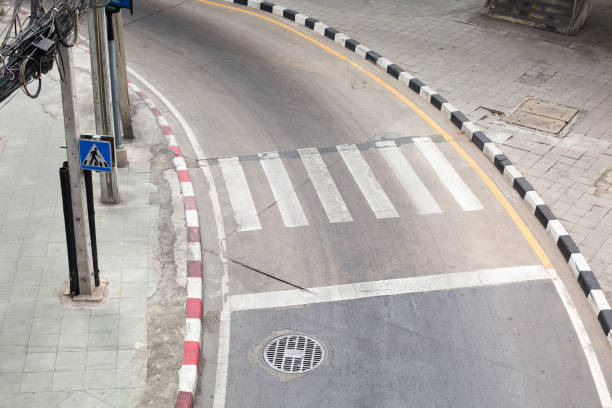yaya_gecidi_levha: (80, 138, 114, 175)
